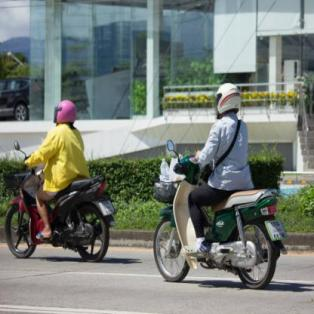Motocicleta: (150, 148, 285, 295), (4, 145, 118, 262)
